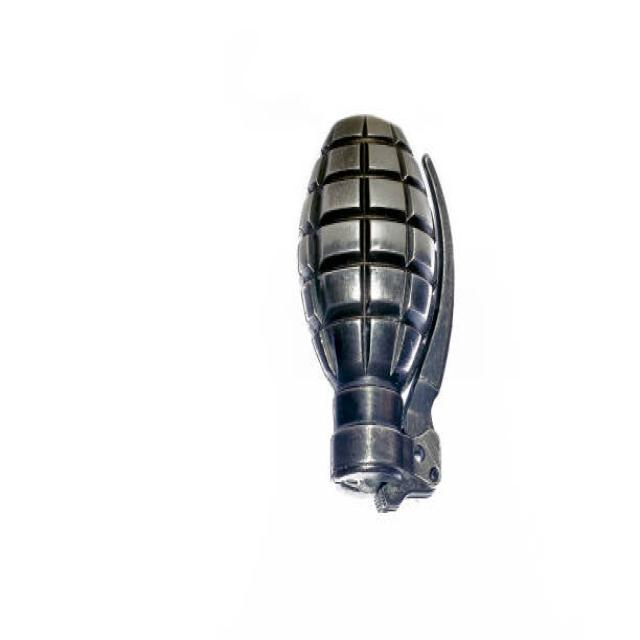grenade: (294, 119, 457, 518)
